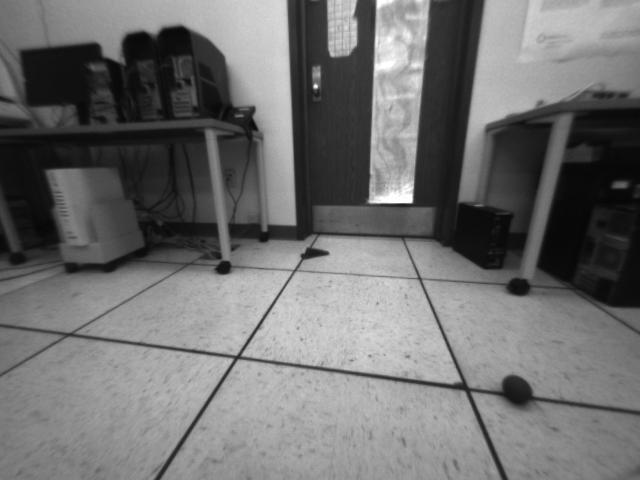dogtoy: (496, 369, 543, 411)
